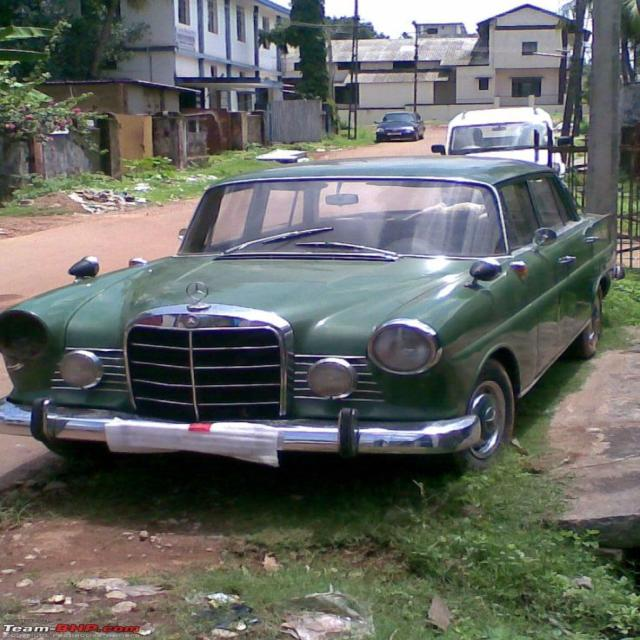blue: (371, 108, 423, 146)
green: (0, 145, 640, 489)
